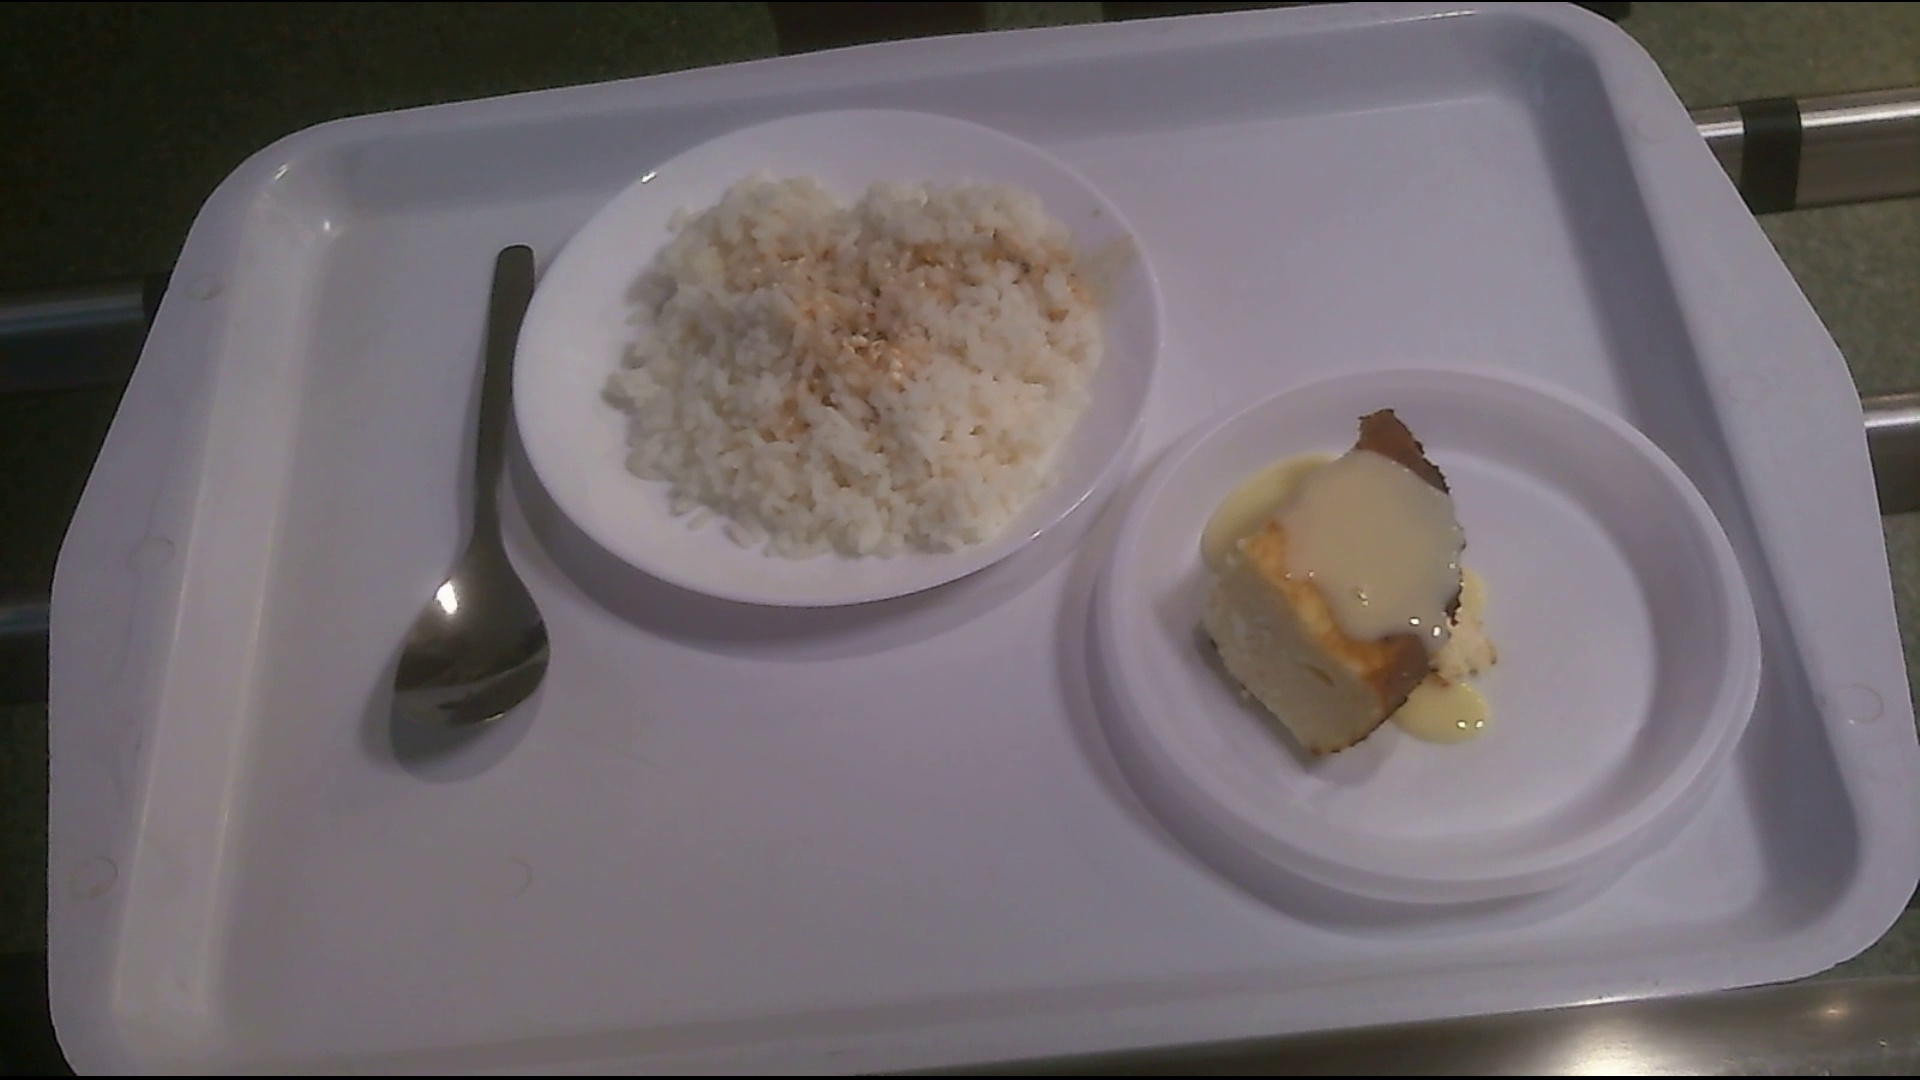cutlery: (394, 236, 564, 731)
plate: (1117, 363, 1758, 932), (508, 102, 1163, 649)
